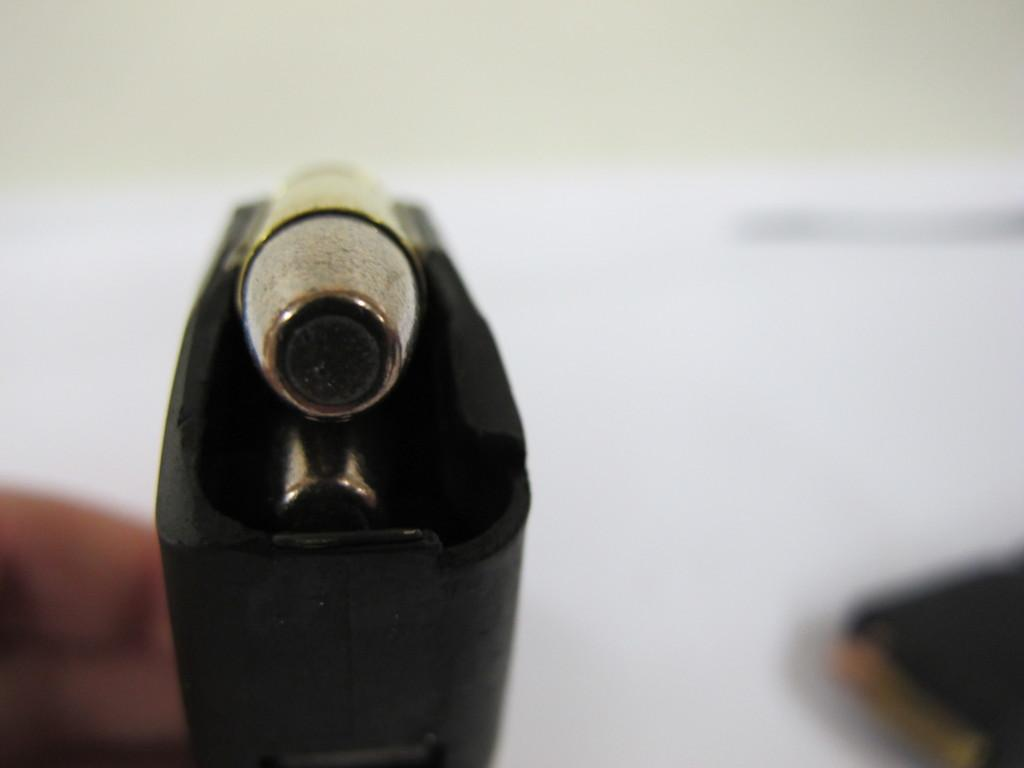weapon: (150, 162, 534, 768)
